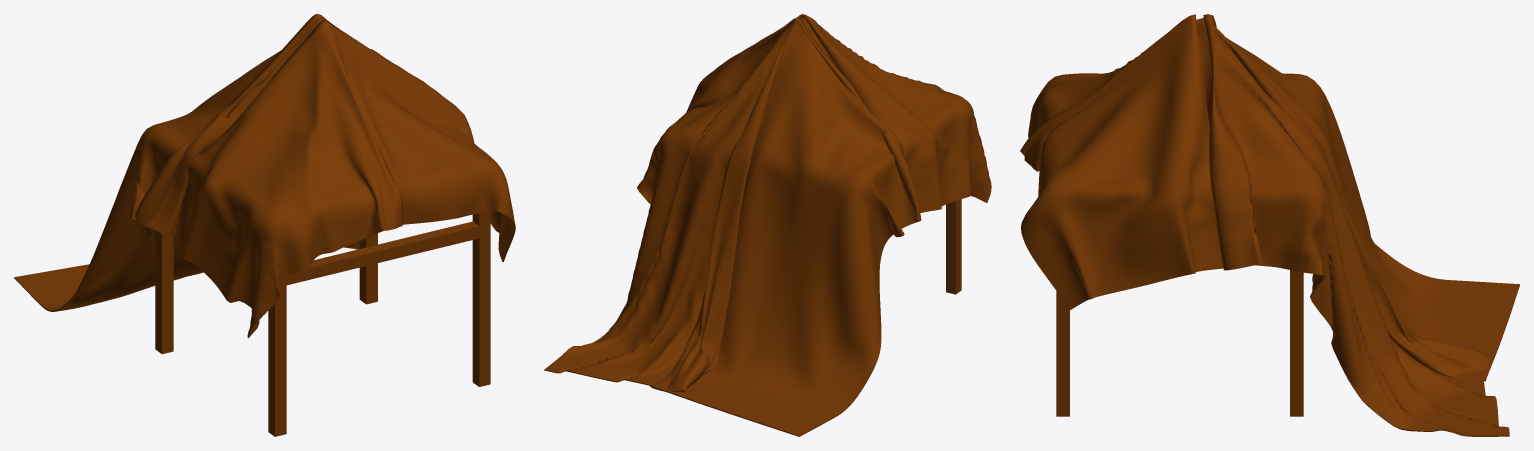
File: MY_Tent.fbx
3 views of the same model, side by side, from view 1: azimuth 30°, elevation 25°; view 2: azimuth 150°, elevation 25°; view 3: azimuth 270°, elevation 25° (orthographic). The views are drawn at different scales.
Visible parts, largest first — view 1: Plane001; view 2: Plane001; view 3: Plane001.
Boxes of the visible parts, x1,y1,x2,y2 form: Plane001: (14,14,515,436); Plane001: (544,14,991,436); Plane001: (1020,14,1519,436).
Bounding box in the file's own units: 275 × 282 × 363.
